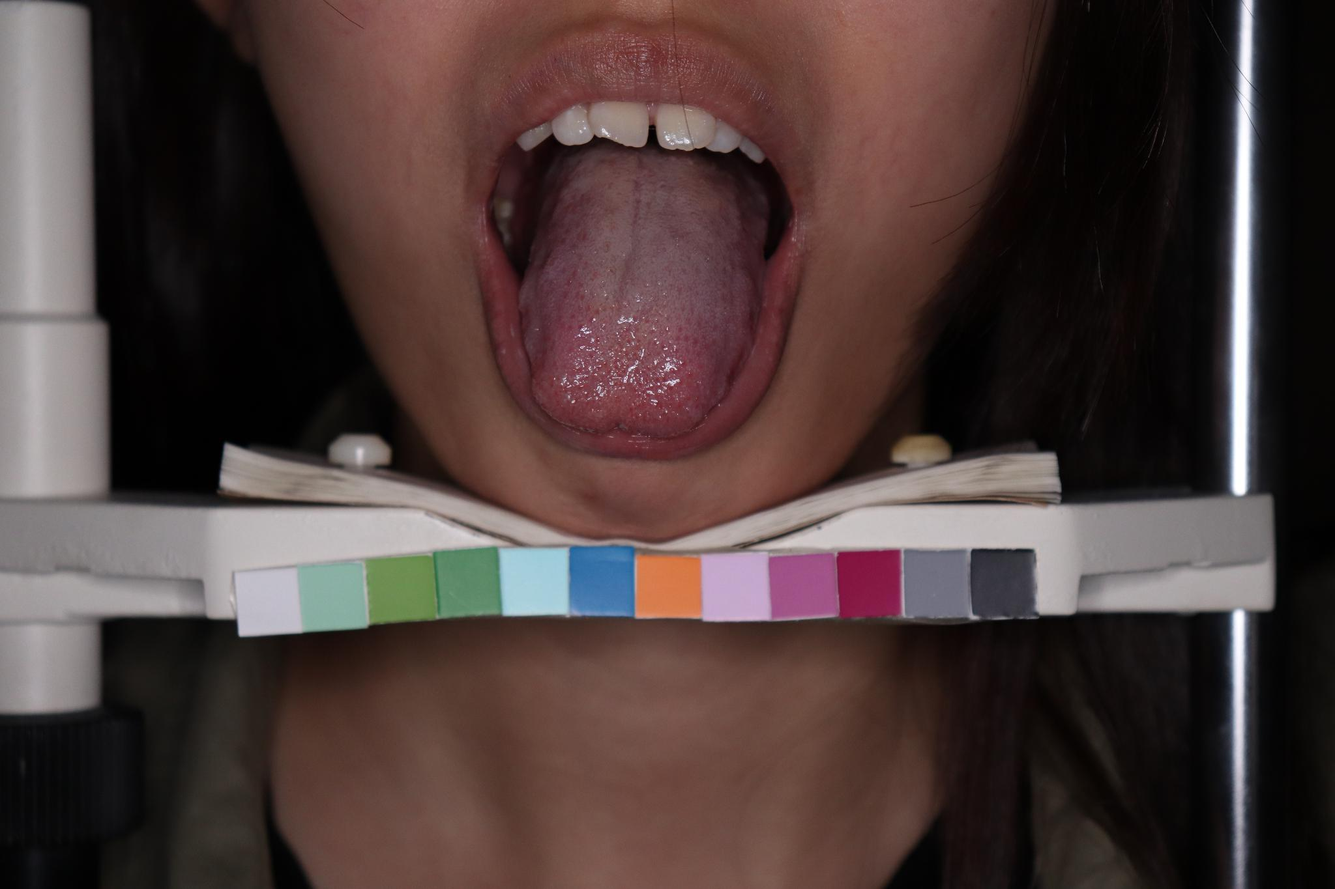baitaishe: (518, 139, 767, 438)
hongdianshe: (575, 321, 585, 331), (593, 305, 601, 316), (594, 335, 601, 343), (676, 324, 682, 333)
